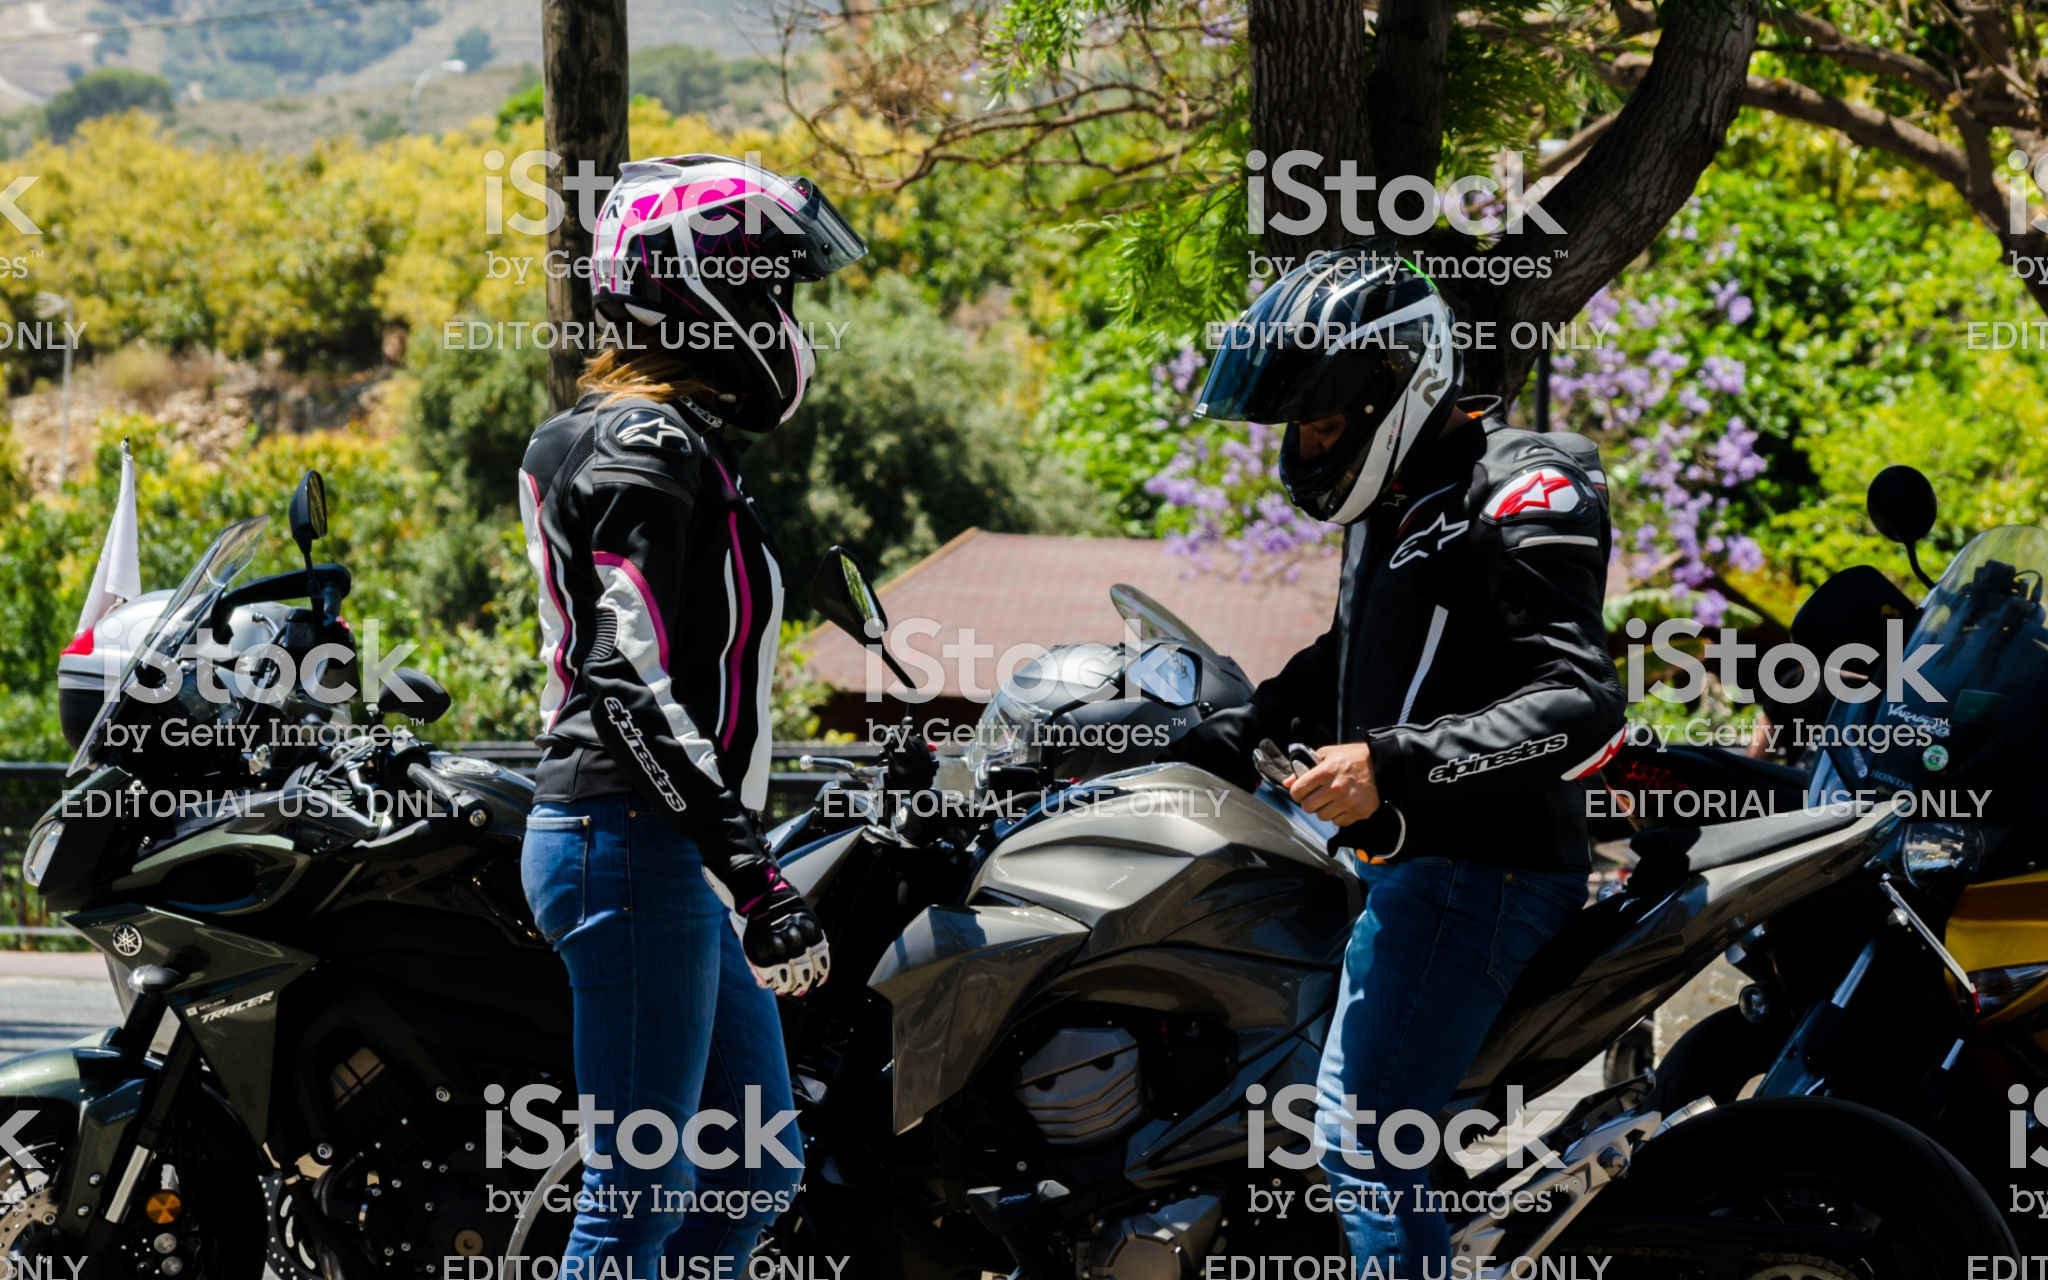helmet: (566, 145, 901, 476), (1185, 261, 1464, 498)
